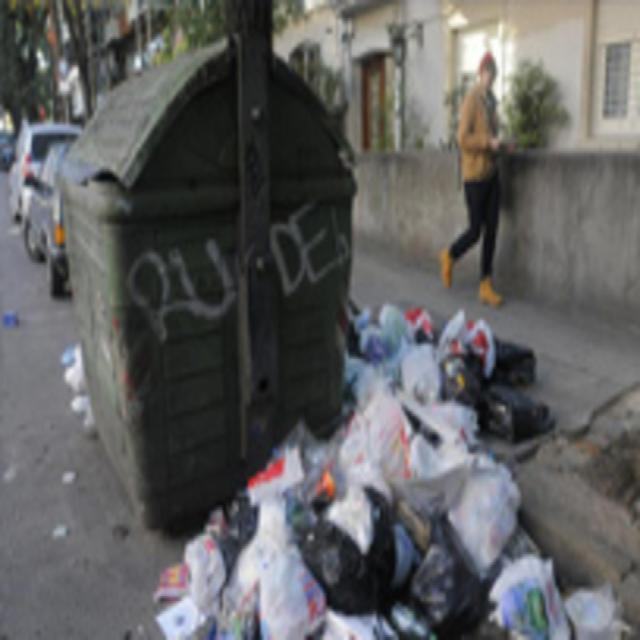garbage: (172, 306, 520, 638)
